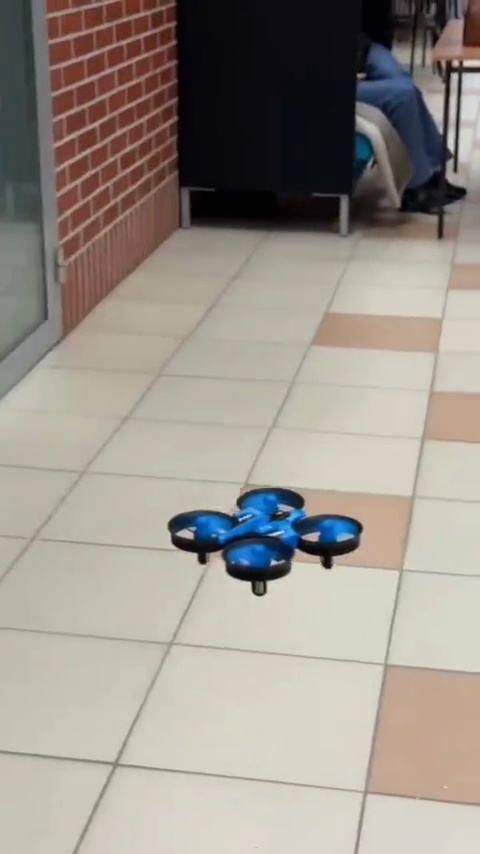drone: (167, 485, 366, 589)
